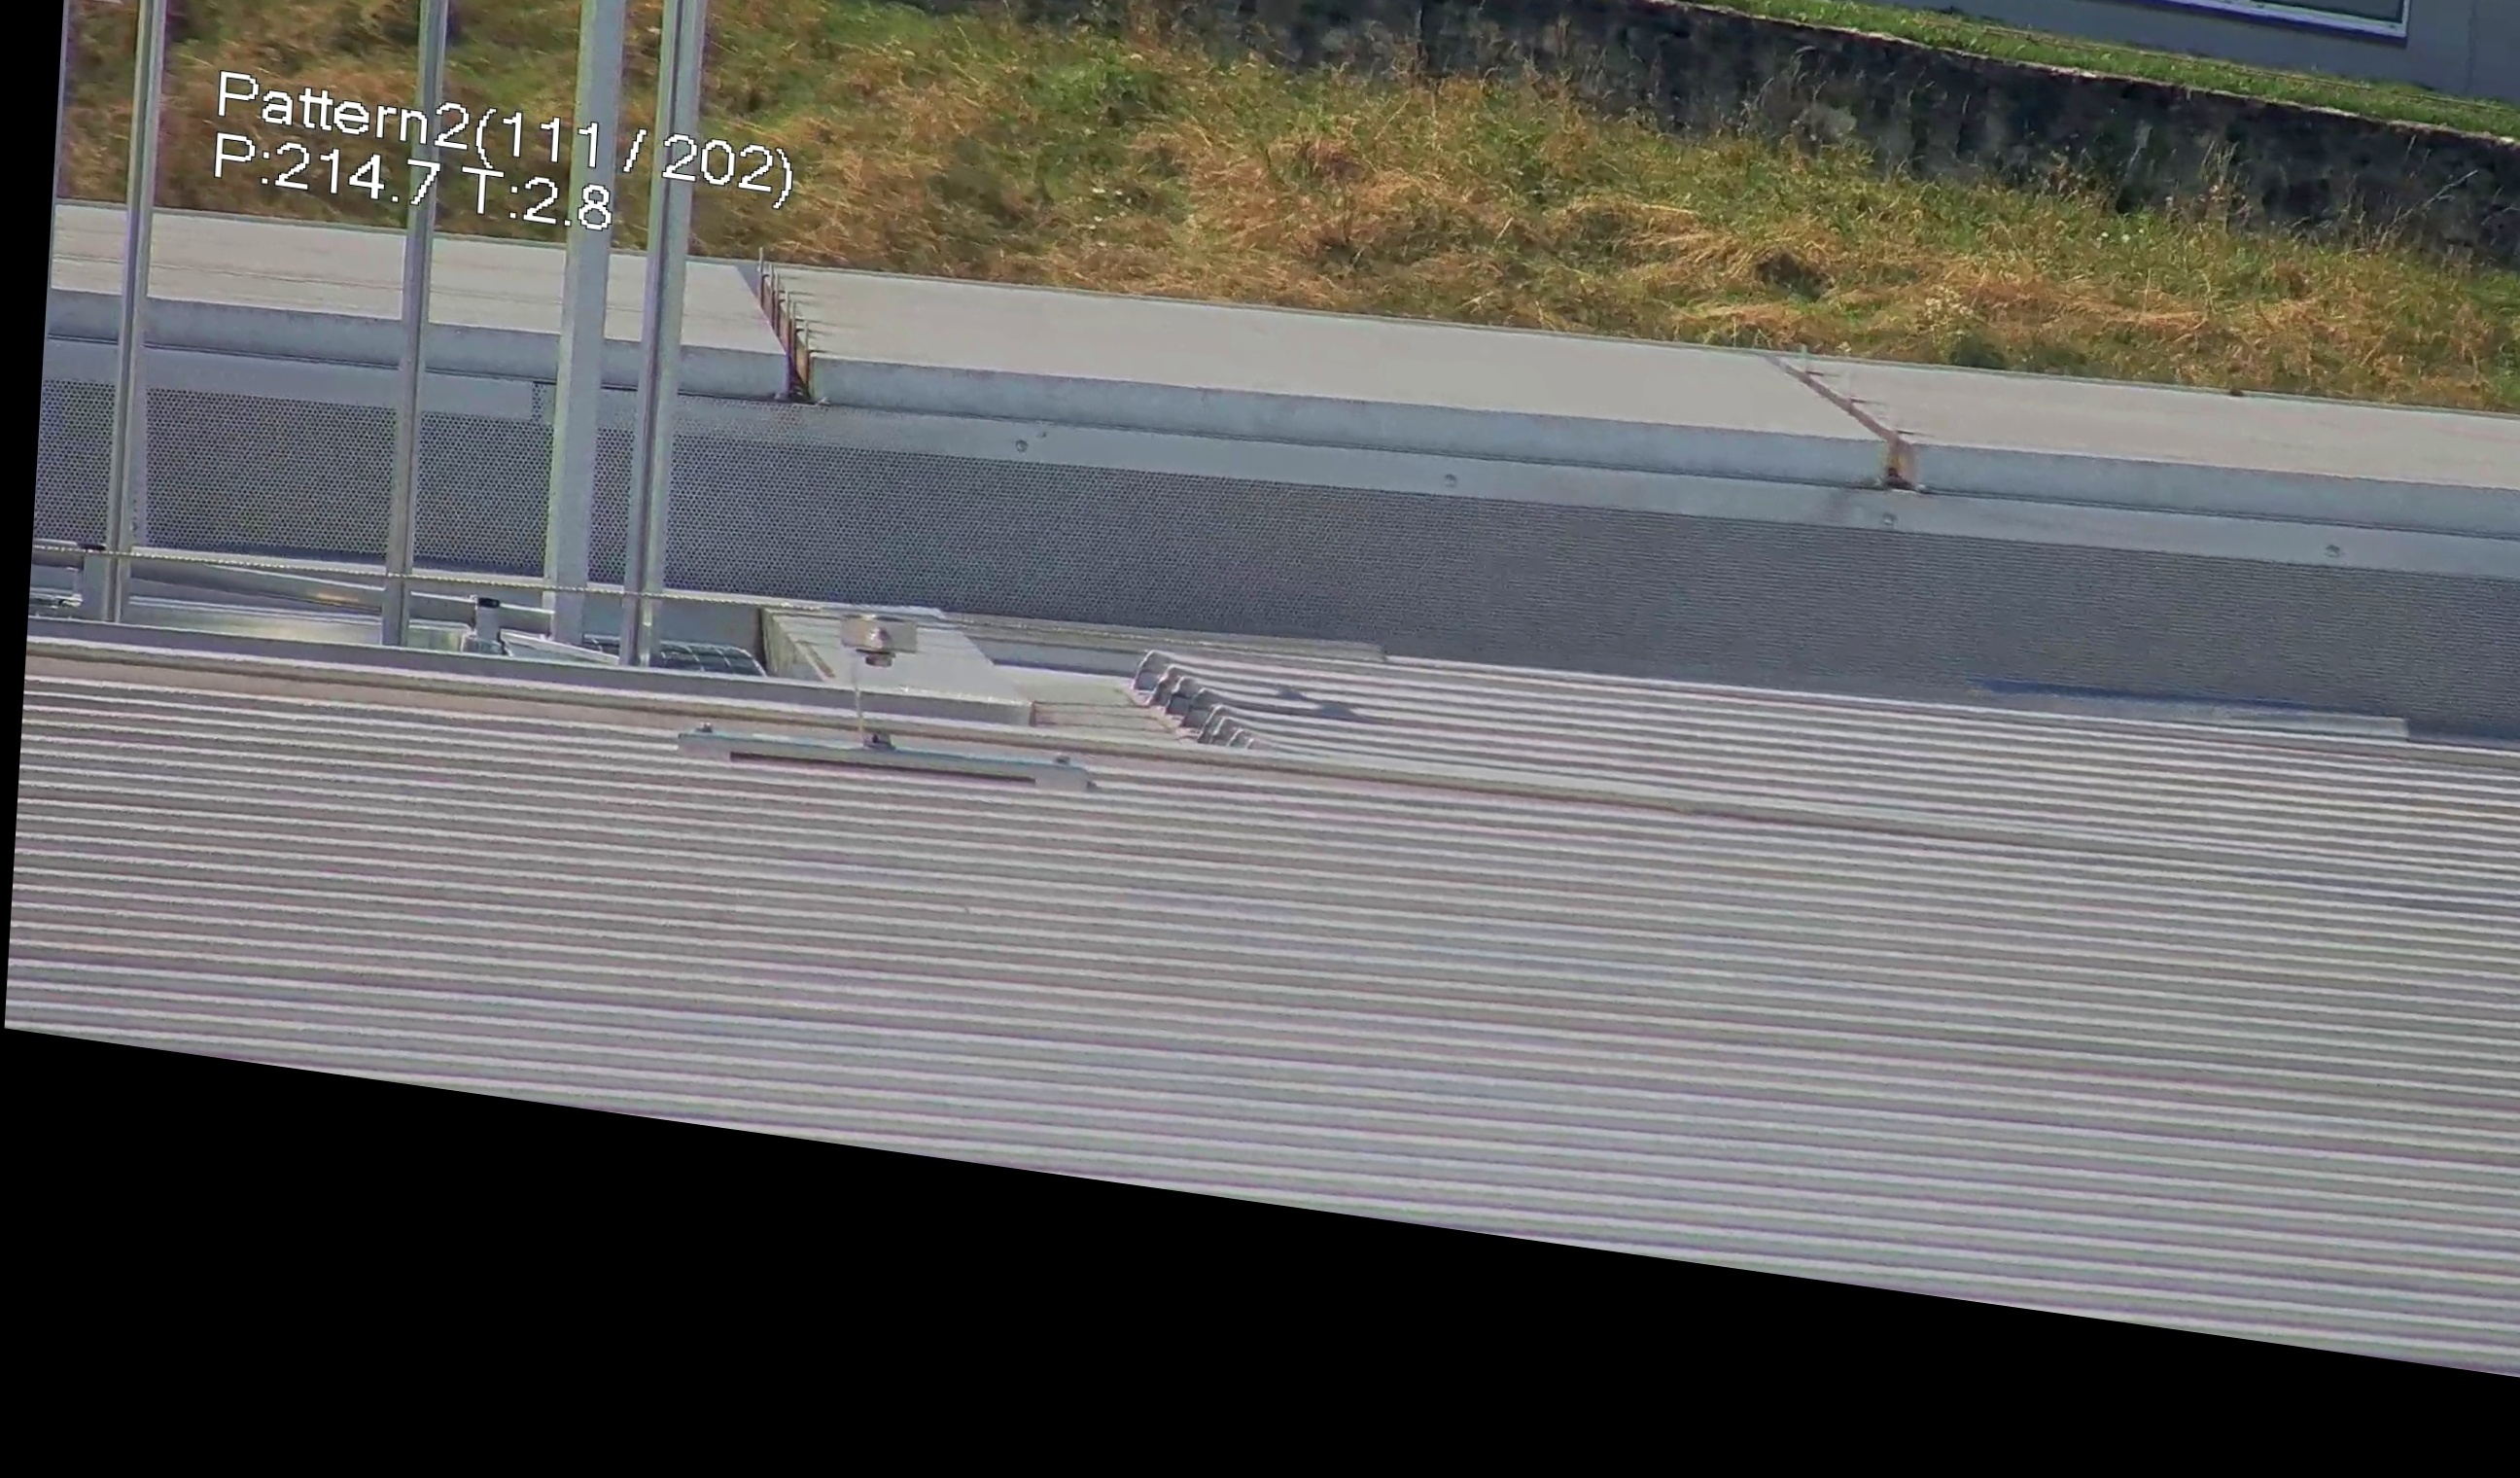Other: (1124, 640, 1264, 767)
